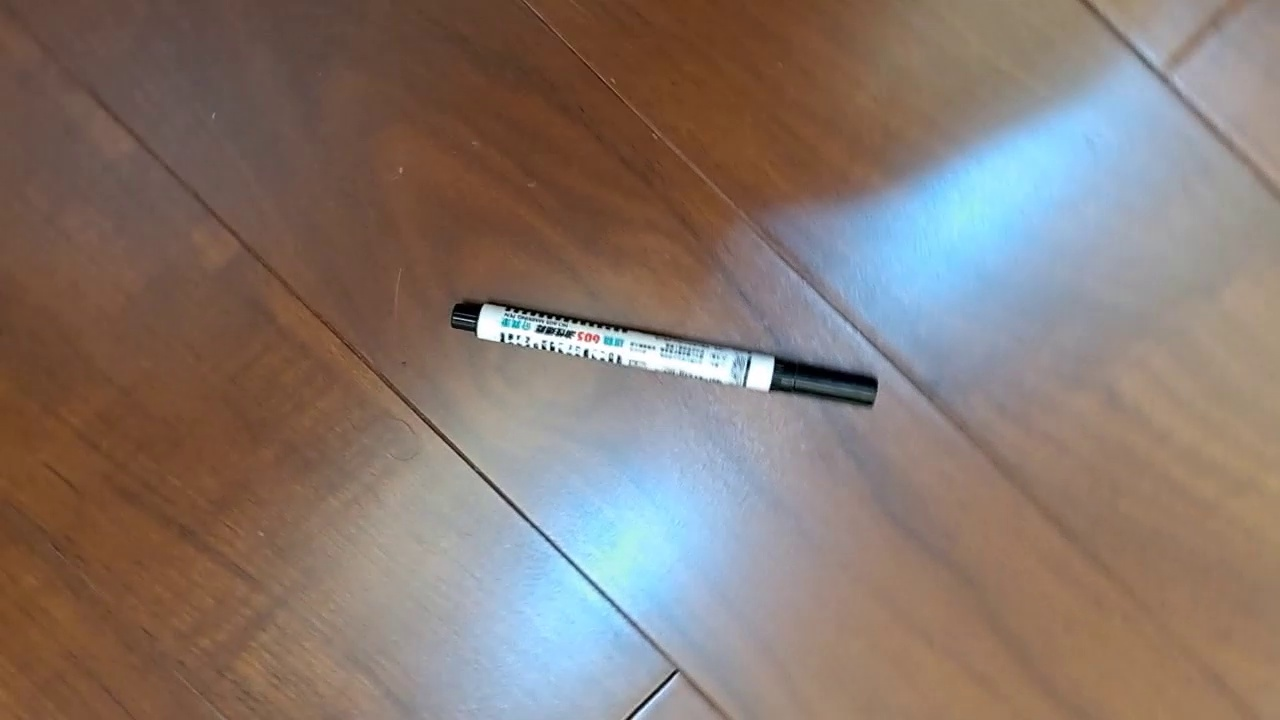pen: (450, 299, 879, 410)
